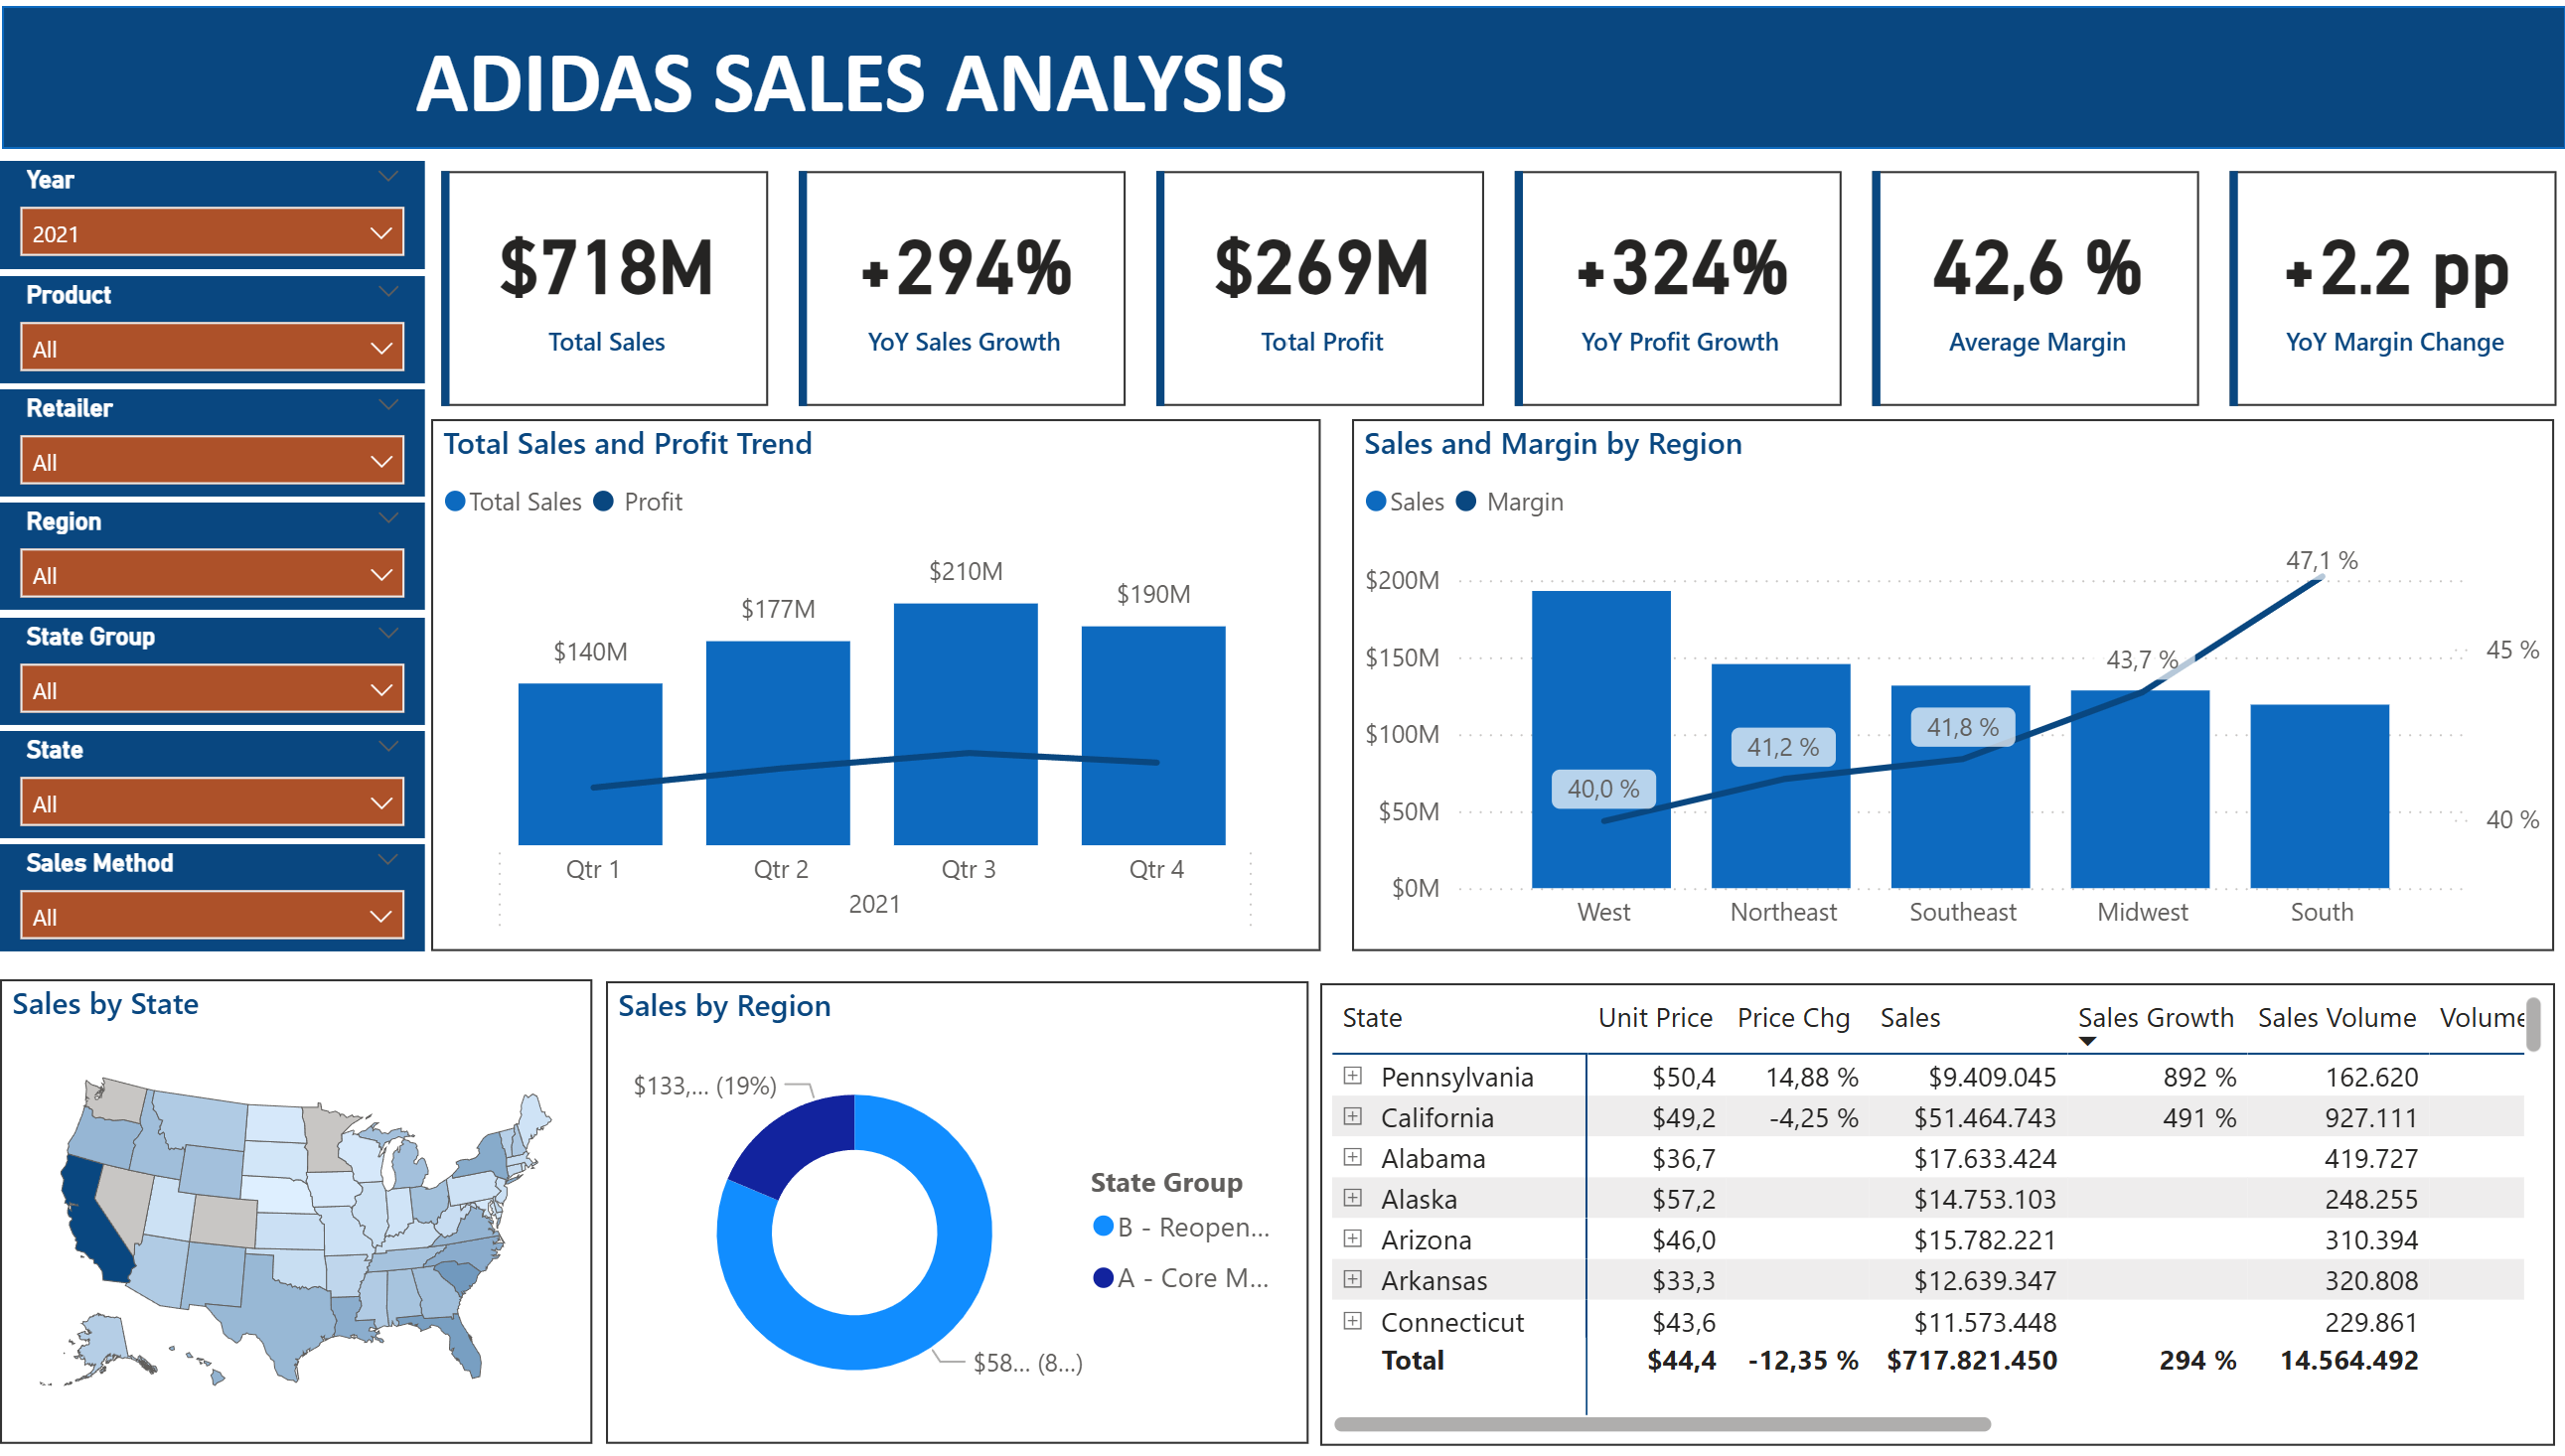

The dashboard page shown, as its layout file describes it:
{"tool":"powerbi","page":{"name":" Sales Overview & Regional Insights","canvas":[1280,720],"ordinal":0},"visuals":[{"type":"shapeMap","title":" Sales by State","fields":{"Category":["Data Sales Adidas.State"],"Value":["Sum(Data Sales Adidas.Total Sales)"]},"box":[15.6,479.5,289.8,227.6],"z":0},{"type":"shape","box":[16.5,2.9,1254.7,70],"z":1000},{"type":"lineStackedColumnComboChart","title":"Total Sales and  Profit Trend","fields":{"Y":["Sum(Data Sales Adidas.Total Sales)"],"Y2":["Sum(Data Sales Adidas.Operating Profit)"],"Category":["CalendarTable.Date.Variation.Date Hierarchy.Year","CalendarTable.Date.Variation.Date Hierarchy.Quarter","CalendarTable.Date.Variation.Date Hierarchy.Month"]},"box":[226.6,205.2,434.8,260.7],"z":2000},{"type":"donutChart","title":"Sales by Region","fields":{"Y":["Sum(Data Sales Adidas.Total Sales)"],"Category":["Data Sales Adidas.State Group"]},"box":[312.2,480.5,343.3,226.6],"z":3000},{"type":"lineStackedColumnComboChart","title":"Sales and  Margin by Region","fields":{"Category":["Data Sales Adidas.Region"],"Y":["Sum(Data Sales Adidas.Total Sales)"],"Y2":["Avg(Data Sales Adidas.Operating Margin)"]},"box":[677,205.2,588.4,260.7],"z":4000},{"type":"cardVisual","fields":{"Data":["Sum(Data Sales Adidas.Total Sales)","_Measures.YoY Sales (vs 2020)_new","Sum(Data Sales Adidas.Operating Profit)","_Measures.YoY Profit % new","Avg(Data Sales Adidas.Operating Margin)","_Measures.Profit Margin YOY pp (Formatted_new)"]},"box":[226.6,78.8,1045.6,125.5],"z":5000},{"type":"textbox","box":[214,8.8,441.6,64.2],"z":6000},{"type":"pivotTable","fields":{"Rows":["Data Sales Adidas.Region Hierarchy.State","Data Sales Adidas.Region Hierarchy.City"],"Values":["Avg(Data Sales Adidas.Price per Unit)","_Measures.Price Change","Sum(Data Sales Adidas.Total Sales)","_Measures.Sales Growth","Sum(Data Sales Adidas.Adjusted Units Sold)","_Measures.Volume Growth","Avg(Data Sales Adidas.Operating Margin)","_Measures.Profit Margin Change","Sum(Data Sales Adidas.Operating Profit)","_Measures.Profit Growth"]},"box":[661.1,481,604.7,226.6],"z":7000},{"type":"slicer","fields":{"Values":["Data Sales Adidas.Region"]},"box":[15.6,246.5,208.1,52.5],"z":8000},{"type":"slicer","fields":{"Values":["Data Sales Adidas.Product"]},"box":[15.6,135,208.1,52.5],"z":9000},{"type":"slicer","fields":{"Values":["CalendarTable.Year"]},"box":[15.6,78.8,208,53],"z":10000},{"type":"slicer","fields":{"Values":["Data Sales Adidas.State"]},"box":[15.6,358,208.1,52.5],"z":11000},{"type":"slicer","fields":{"Values":["Data Sales Adidas.Retailer"]},"box":[15.6,190.7,208.1,52.5],"z":12000},{"type":"slicer","fields":{"Values":["Data Sales Adidas.Sales Method"]},"box":[15.8,413.7,207.8,52.5],"z":13000},{"type":"slicer","fields":{"Values":["Data Sales Adidas.State Group"]},"box":[15.6,302.2,208.1,52.5],"z":14000}]}

Visuals, with their boxes in screenshot pixels (x1, y1, x2, y2), scaled from the page's 1280x720 canvas onto the 2565x1456 screenshot:
" Sales by State" shapeMap: [31,969,612,1430]
shape: [33,6,2547,147]
"Total Sales and  Profit Trend" lineStackedColumnComboChart: [454,415,1325,943]
"Sales by Region" donutChart: [626,971,1313,1430]
"Sales and  Margin by Region" lineStackedColumnComboChart: [1357,415,2536,943]
cardVisual - Sum(Data Sales Adidas.Total Sales) x _Measures.YoY Sales (vs 2020)_new: [454,159,2549,413]
textbox: [429,18,1313,148]
pivotTable - Data Sales Adidas.Region Hierarchy.State x Data Sales Adidas.Region Hierarchy.City: [1325,972,2536,1431]
slicer - Data Sales Adidas.Region: [31,499,448,605]
slicer - Data Sales Adidas.Product: [31,273,448,379]
slicer - CalendarTable.Year: [31,159,448,266]
slicer - Data Sales Adidas.State: [31,724,448,830]
slicer - Data Sales Adidas.Retailer: [31,385,448,492]
slicer - Data Sales Adidas.Sales Method: [32,836,448,943]
slicer - Data Sales Adidas.State Group: [31,611,448,717]
